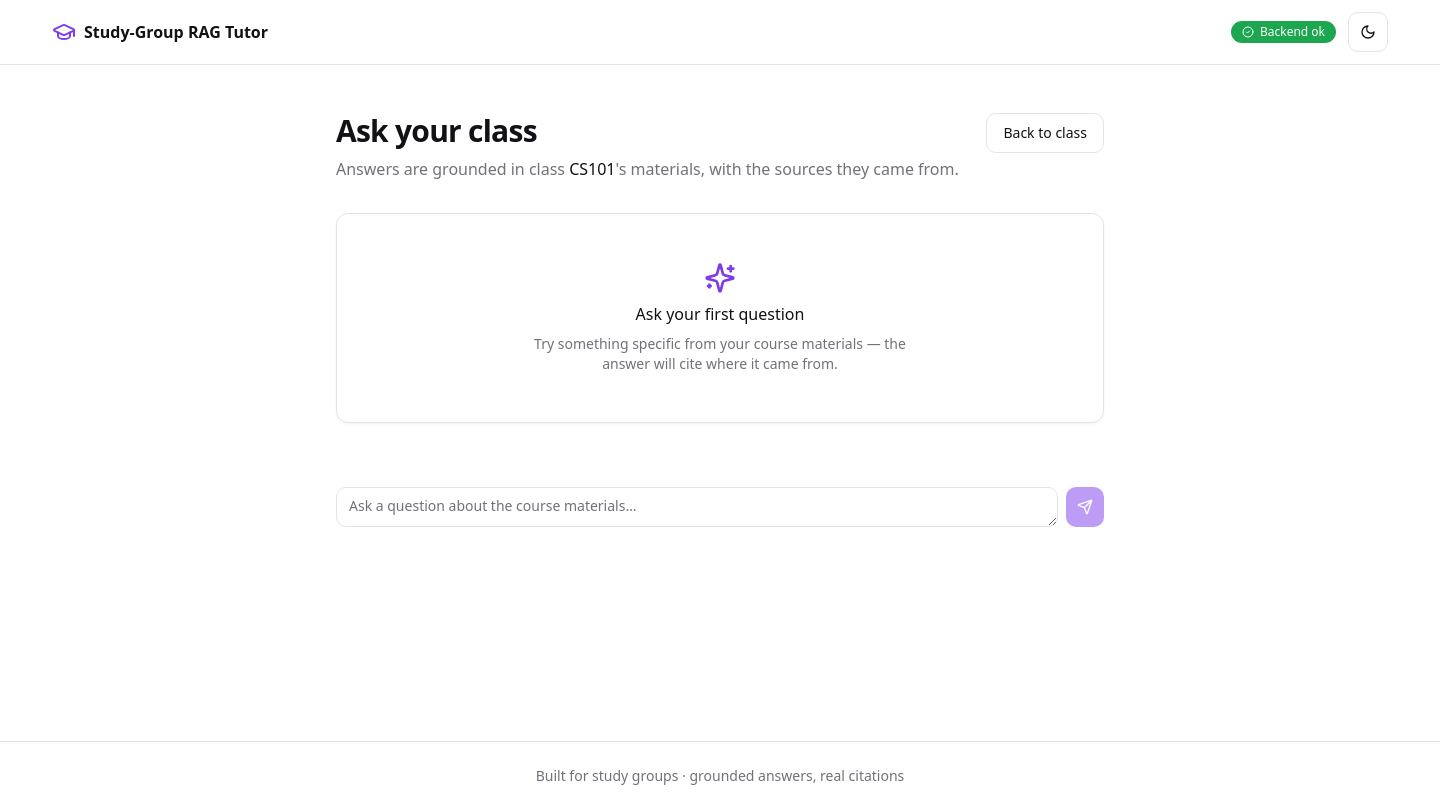
Test: AskPage › shows the question immediately and an error if the request fails
Step 1. Type "Anything?" into the text box named "your question" → (697,507), box x1=336 y1=487 x2=1058 y2=527
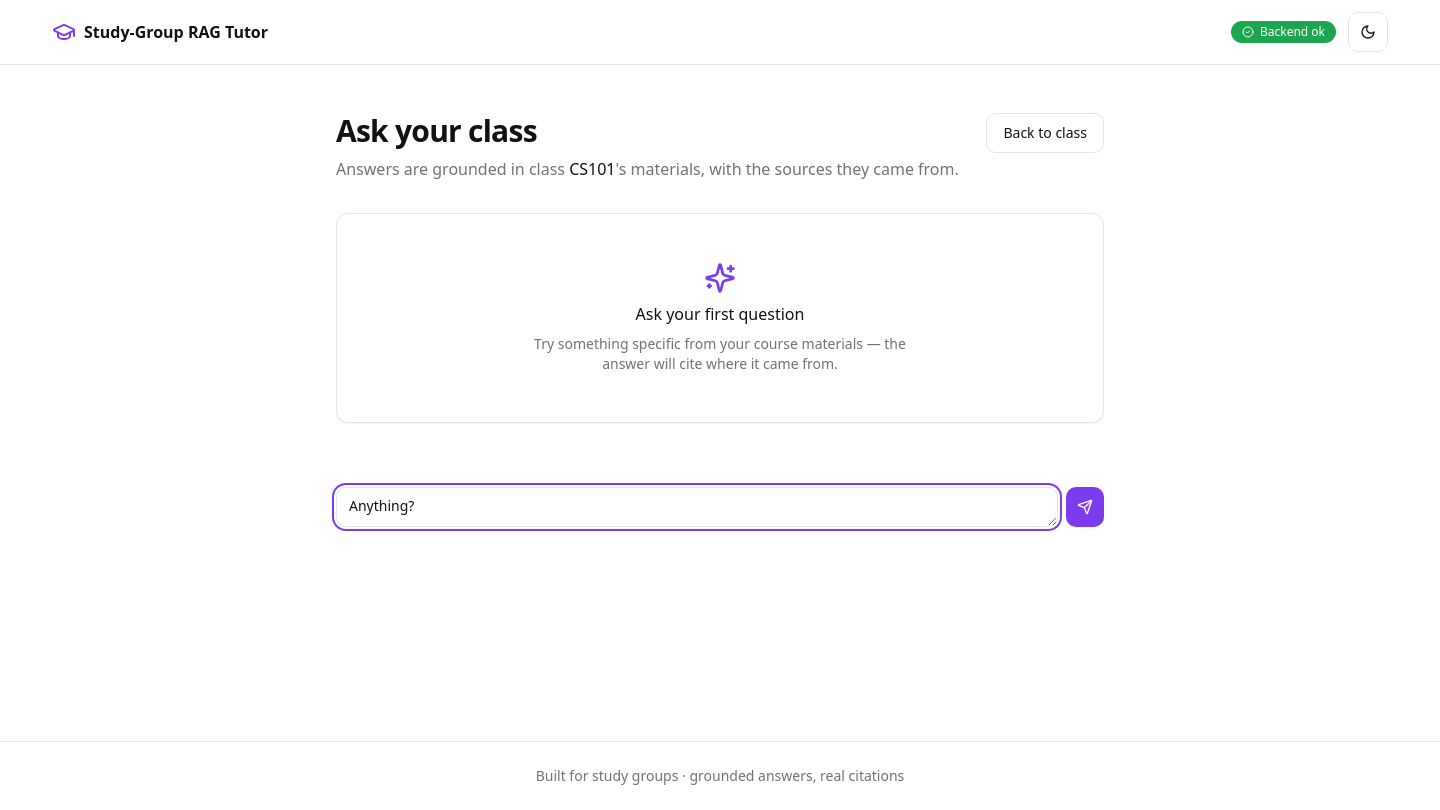
Step 2. Click the button named "send question" → (1085,507), box x1=1066 y1=487 x2=1104 y2=527
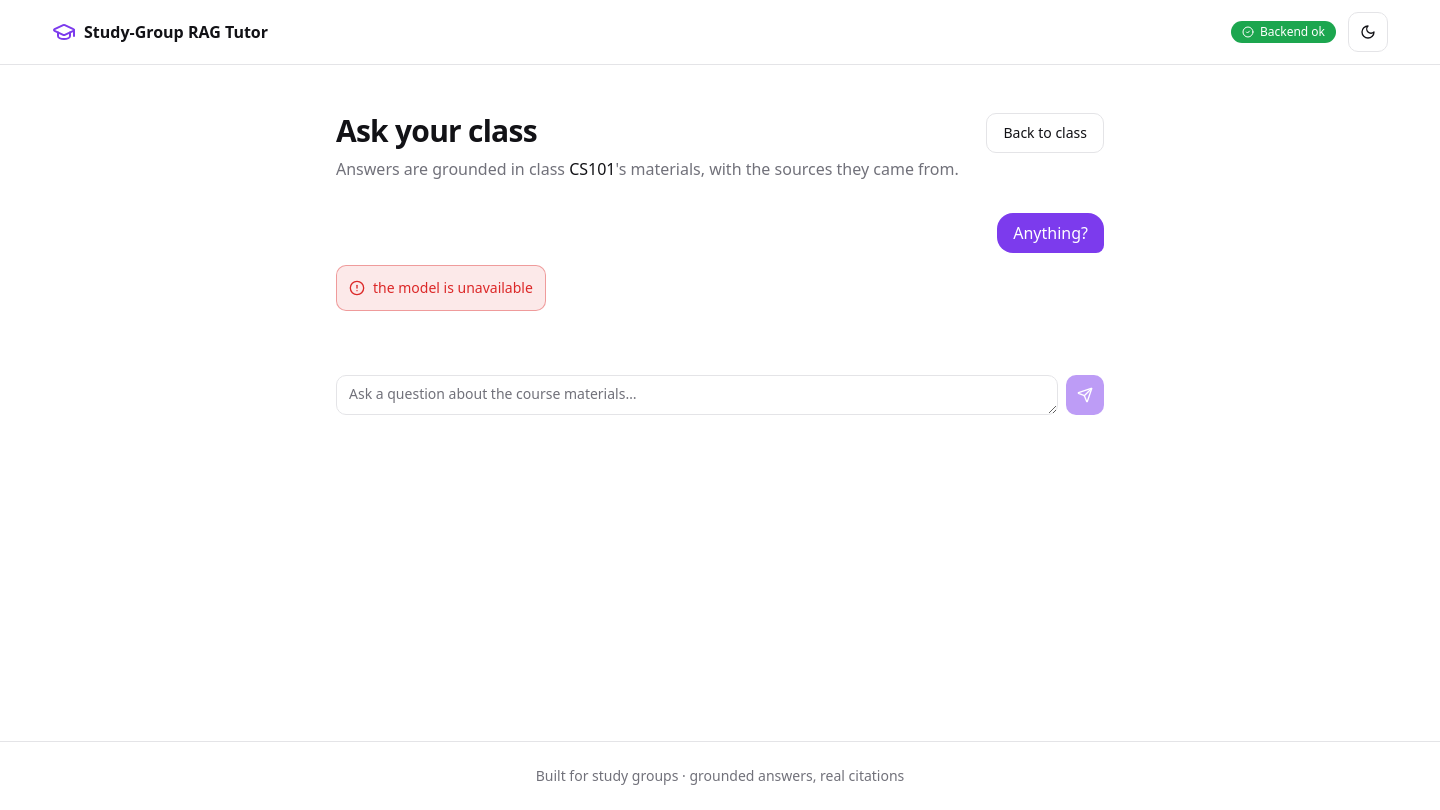
Expected: the text "the model is unavailable" is shown, x1=336 y1=265 x2=546 y2=311
Expected: the text "Anything?" is shown, x1=997 y1=213 x2=1104 y2=253
